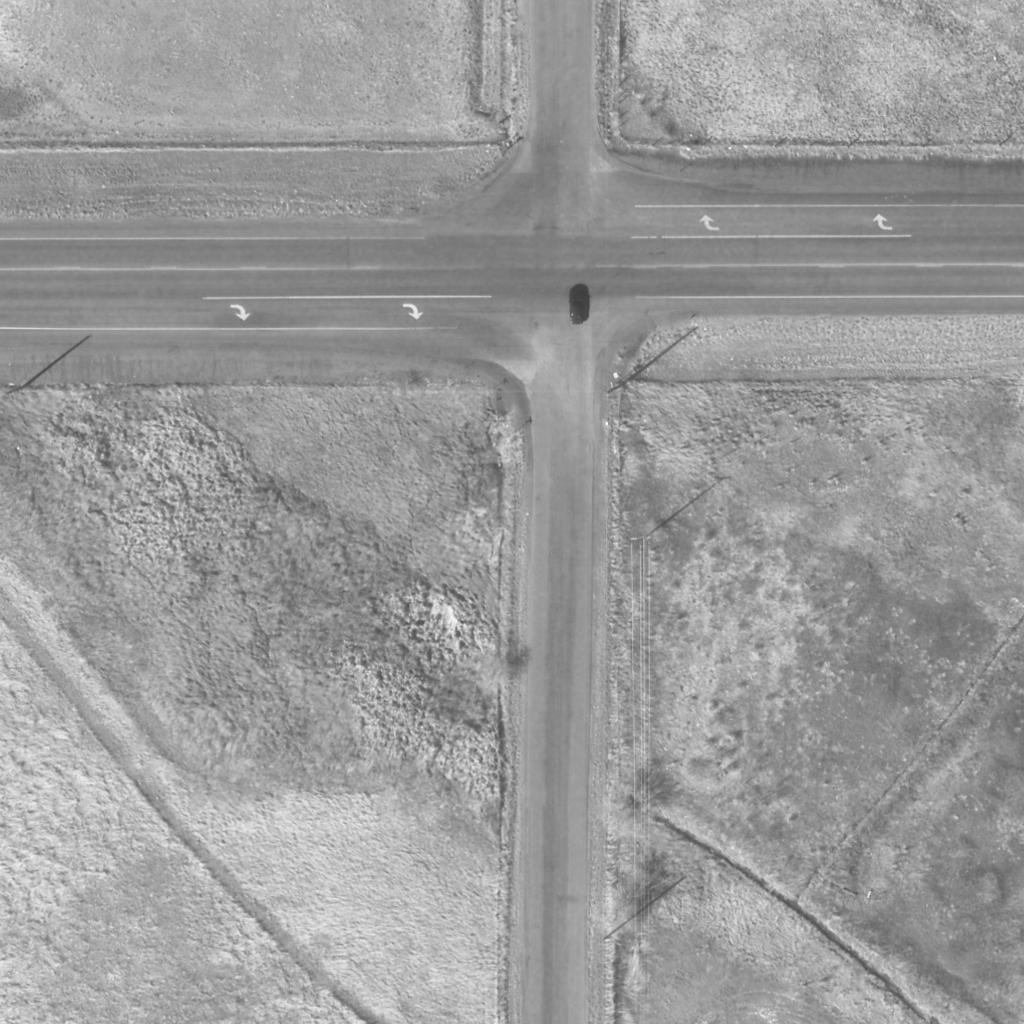vehicle: (568, 285, 588, 325)
